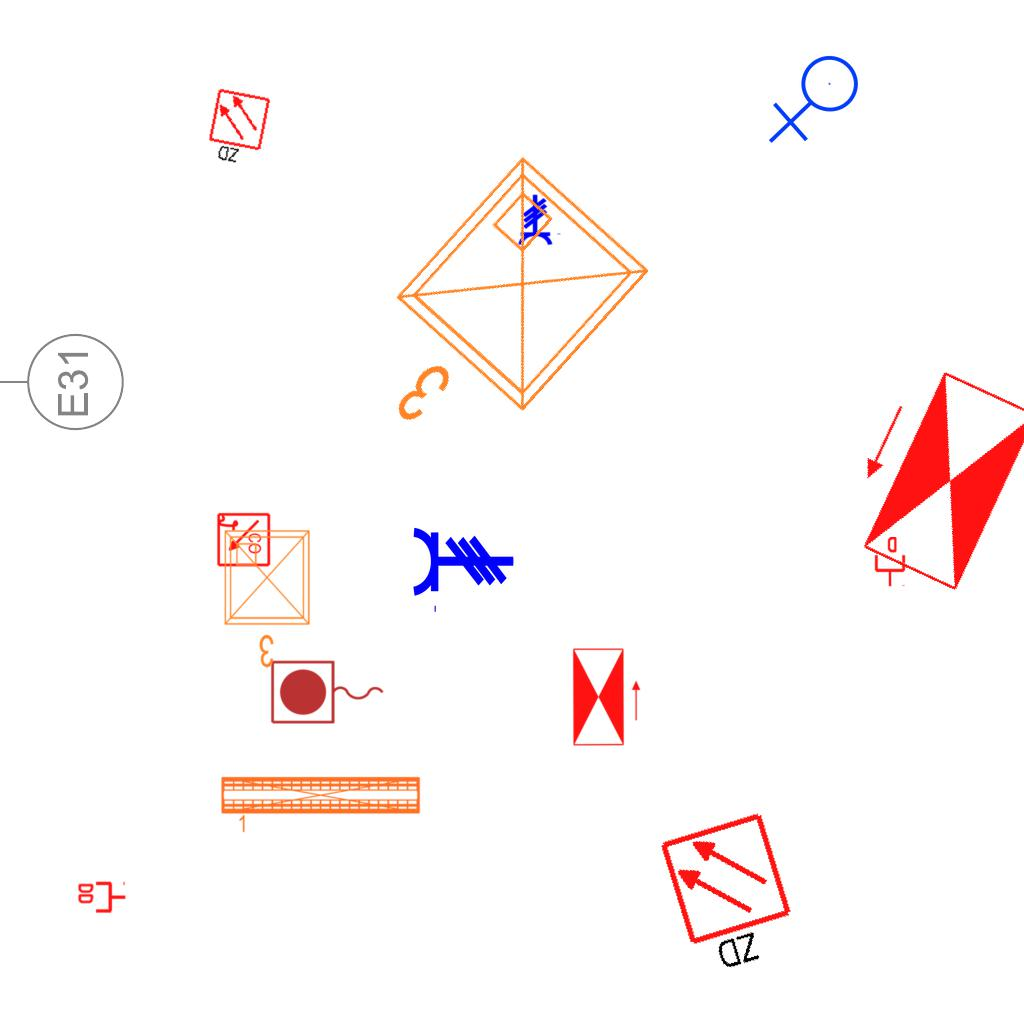Buero_Pendelleuchten_LED: (218, 772, 424, 837)
CEE_Drehstrom_Steckdose_16_32_A: (411, 525, 515, 615), (517, 194, 562, 246)
Datenanschluss_einfach: (873, 537, 907, 587)
Datenanschluss_zweifach: (76, 881, 127, 915)
Einbaudownlights_LED_Konferenzraeume: (320, 135, 676, 499), (217, 523, 321, 673)
Elektroanschluss_allgemein_230V_Geraeteanschlussdose_230V: (768, 54, 867, 148)
Fluchtwegpiktogramm: (824, 348, 1024, 600), (570, 645, 643, 749)
ROA_Rauchmelder_optisch_mit_Signalgeber_(Sockelsirene): (215, 512, 271, 568)
ZD_Melder_in_Zwischendecke_mit_Revisionsoeffnung_mind_40_x_40_cm: (656, 808, 810, 985), (203, 87, 274, 171)
Zugtaster: (267, 657, 389, 729)
